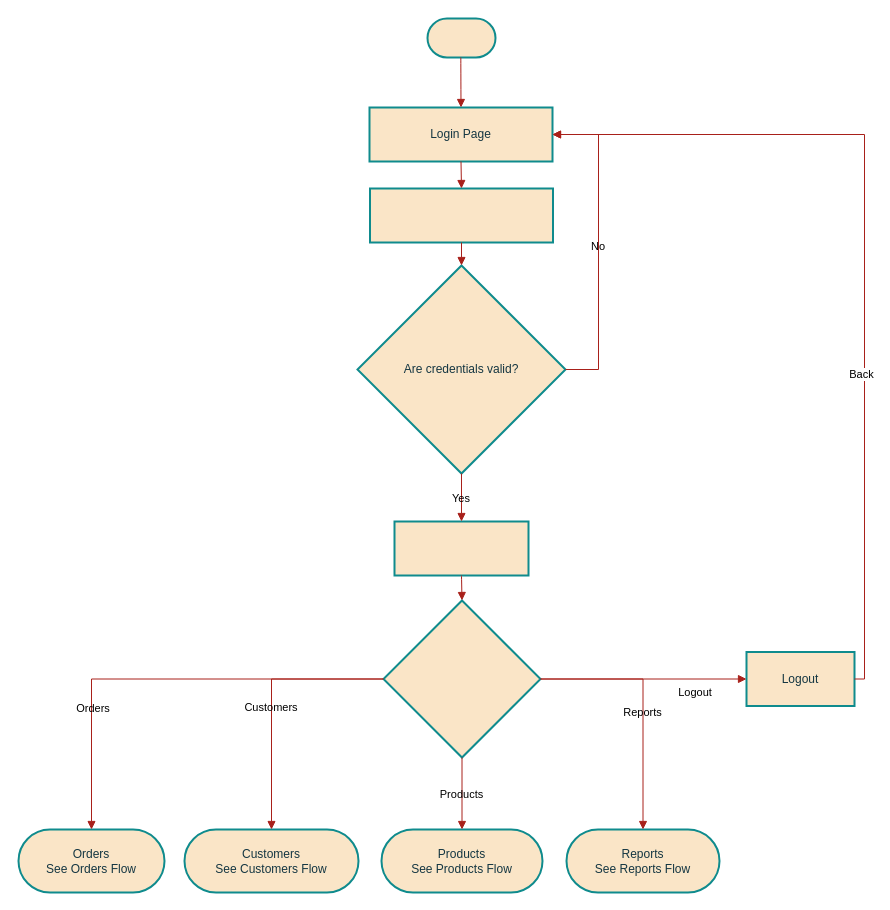
Image size: 890x910. Some labels were removed from this diagram. The centre of each missing label's shape, as x and y in pixels:
"Dashboard" goes at point (461, 548).
"Input Credentials" goes at point (461, 215).
"START" goes at point (461, 37).
"User Selection" goes at point (461, 678).
